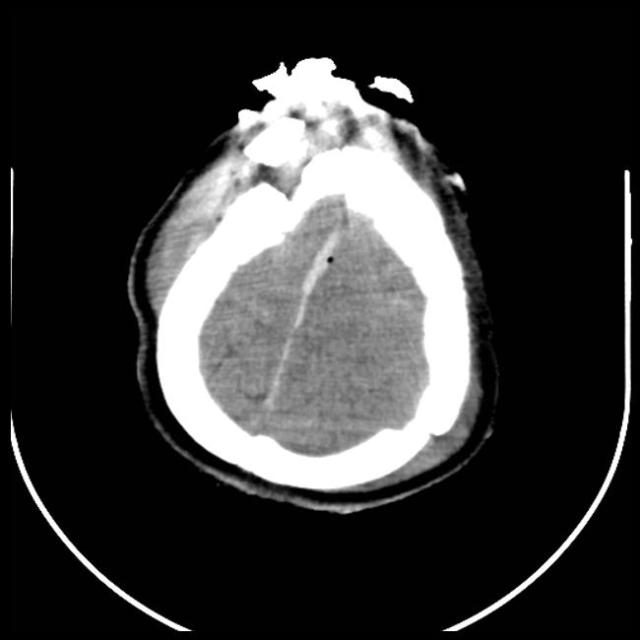lesion: (123, 52, 504, 515)
